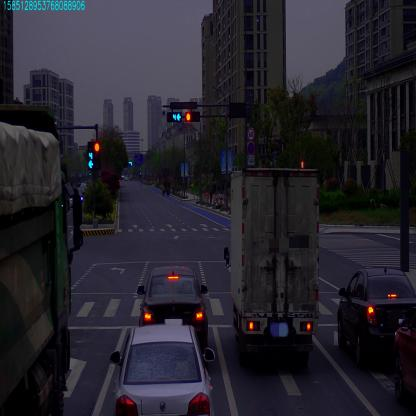traffic-light: (185, 113, 199, 121), (168, 112, 180, 121)
